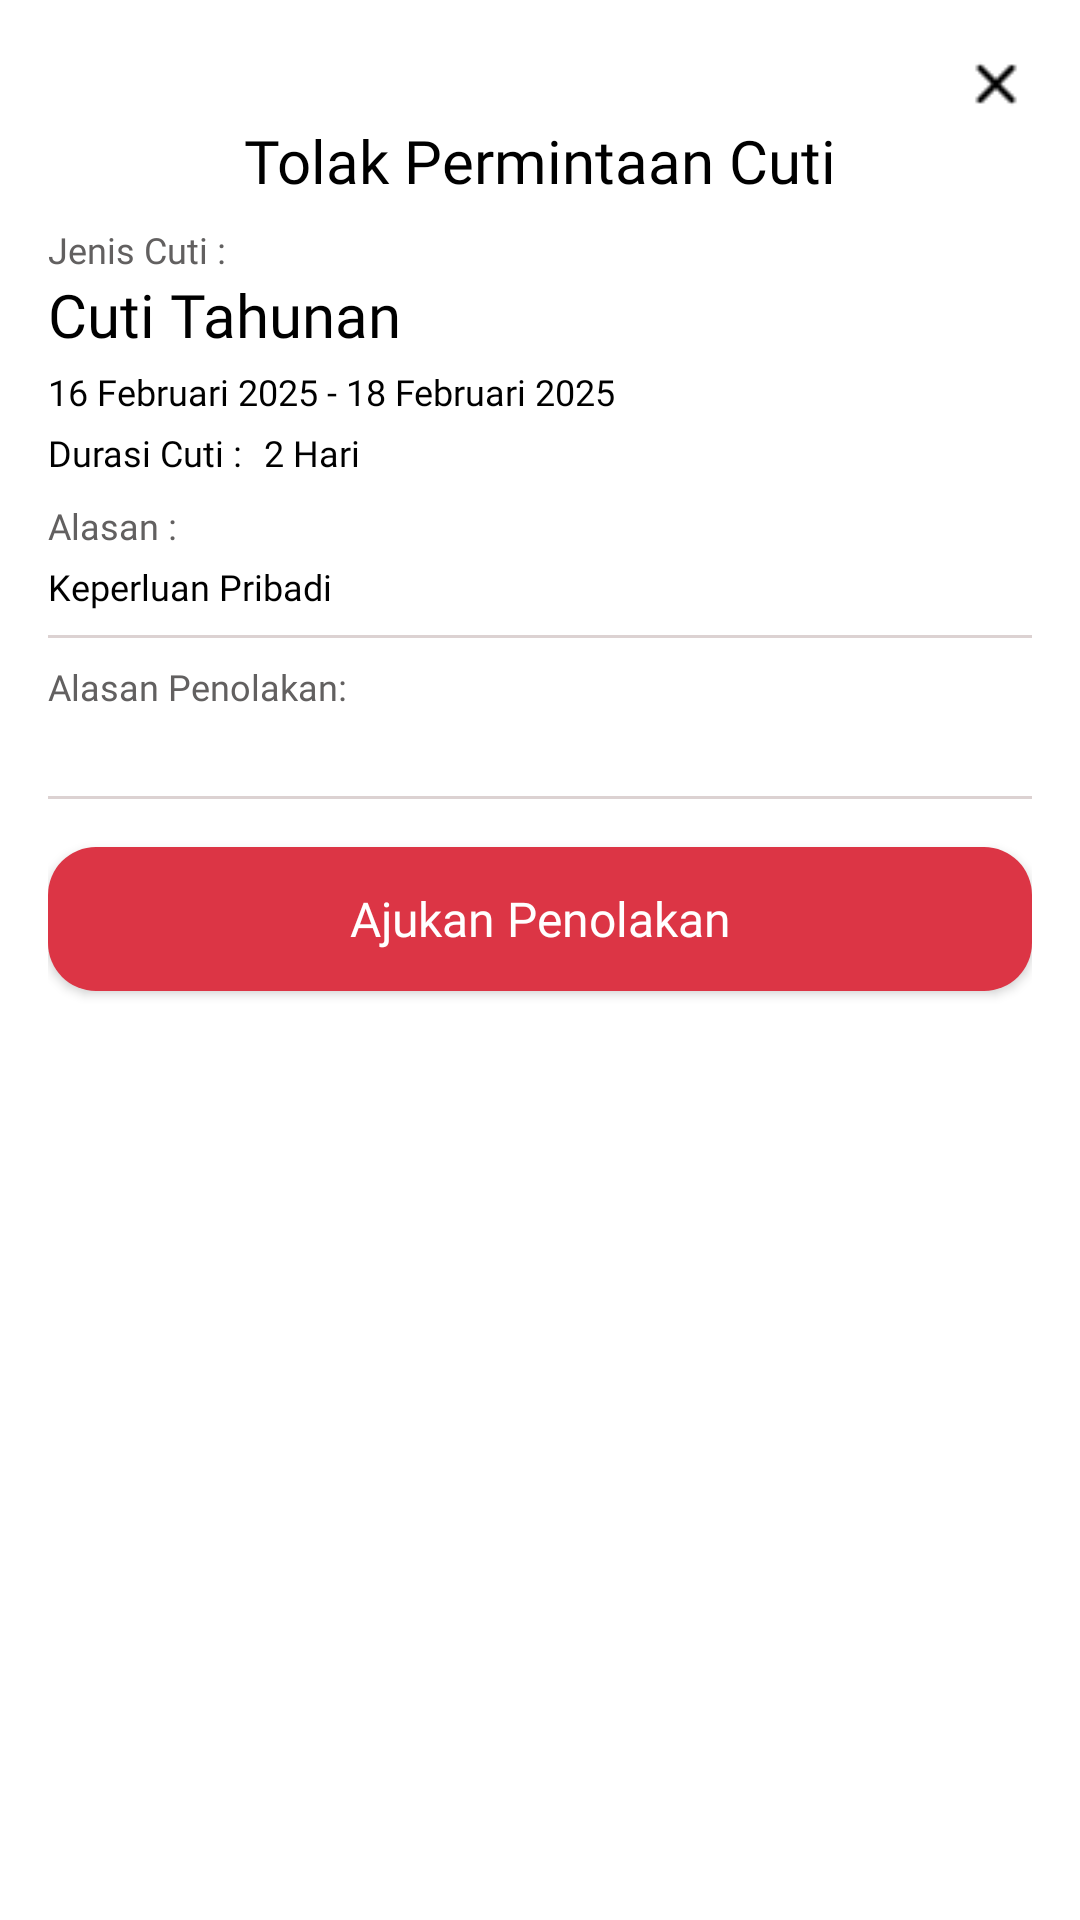

Locate icon controls on the screen. Image size 1080 x 1920, boxes as (x1, y1, x2, y2).
close rounded: (975, 64, 1017, 104)
